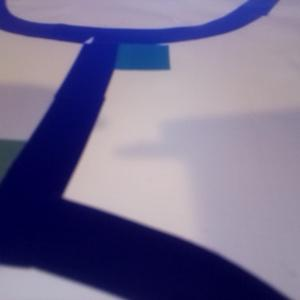bottom_right: (84, 29, 169, 70)
top_left: (1, 139, 61, 214)
